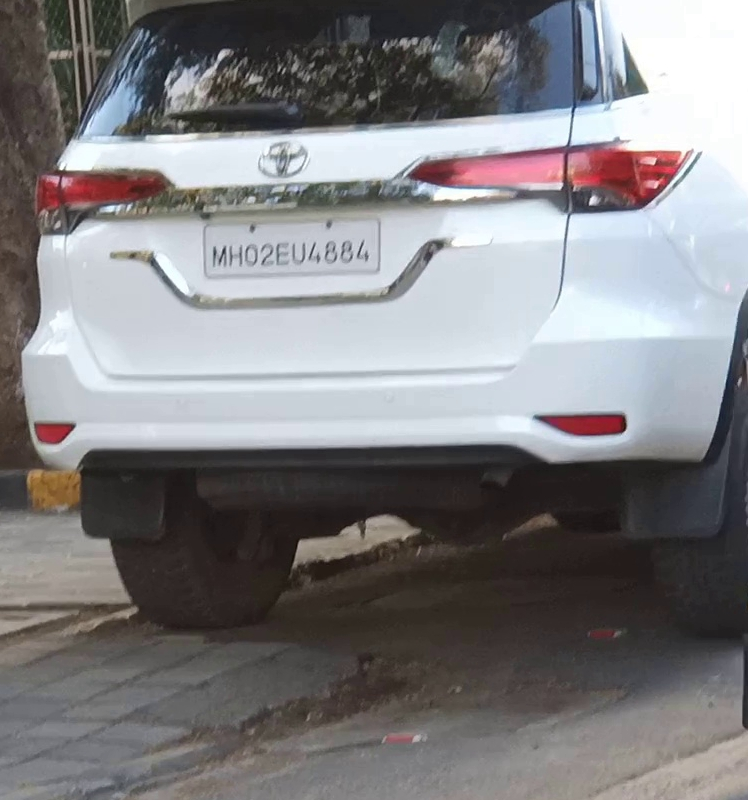MH02EU4884: (206, 221, 379, 275)
